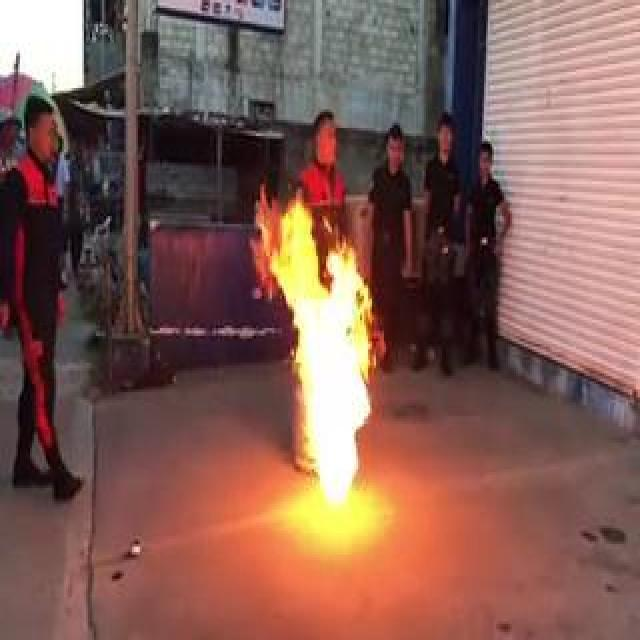Fire: (260, 212, 384, 511)
